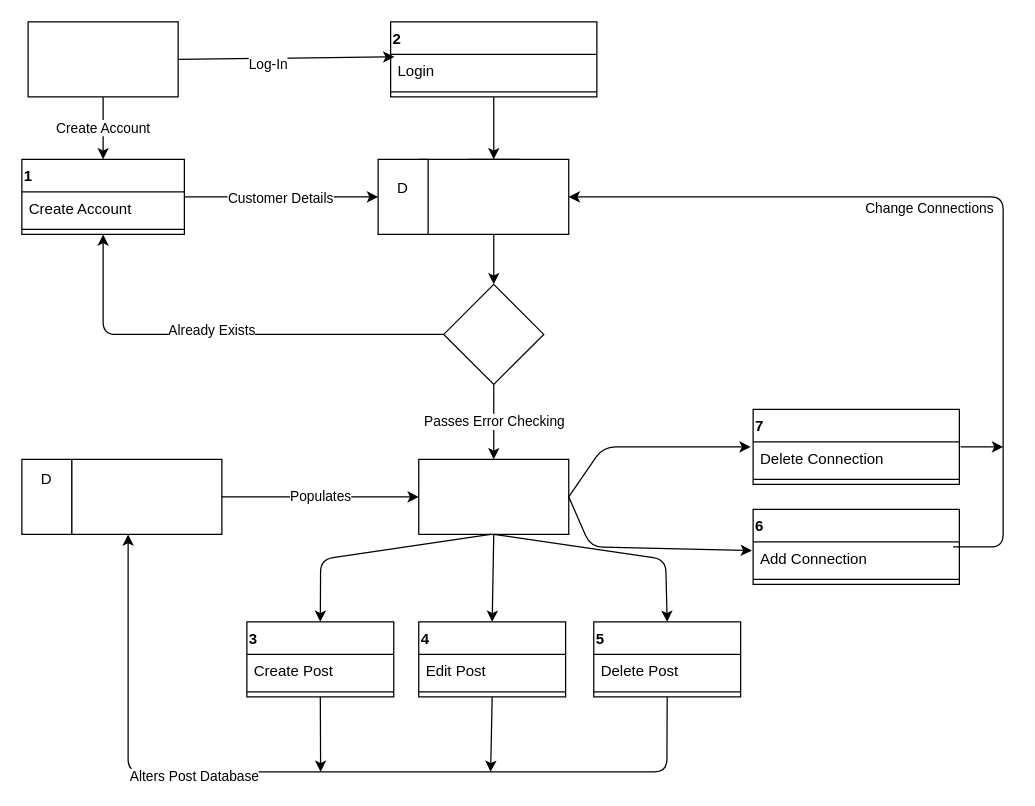
This 1035x806 diagram has some shape labels left out. The centre of each missing label's shape, as x and y in pixels:
Accounts_DB: pixel 493 196
Data Check: pixel 493 333
Home Page: pixel 493 496
Posts_DB: pixel 146 496
User: pixel 102 59
